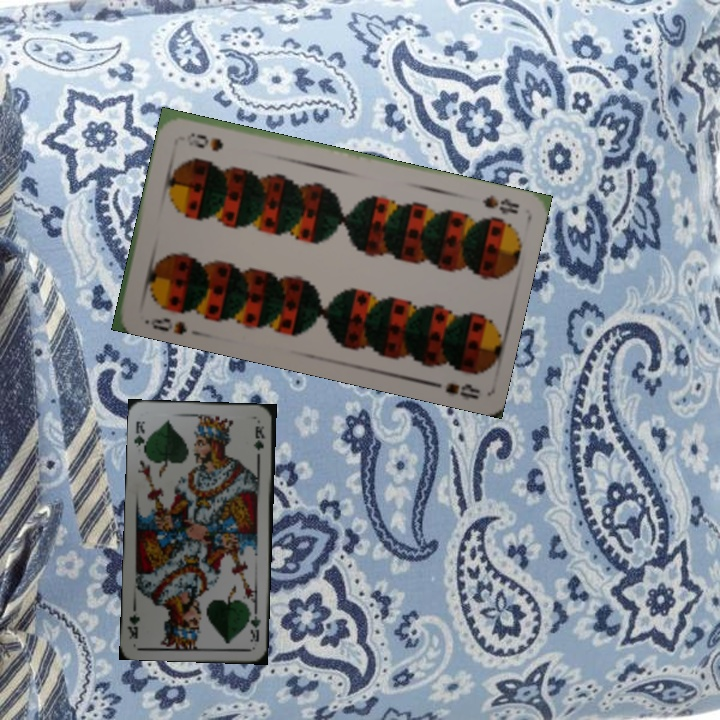GK: (130, 417, 150, 455), (245, 607, 263, 644)
S8: (140, 313, 190, 337), (479, 190, 522, 217)
